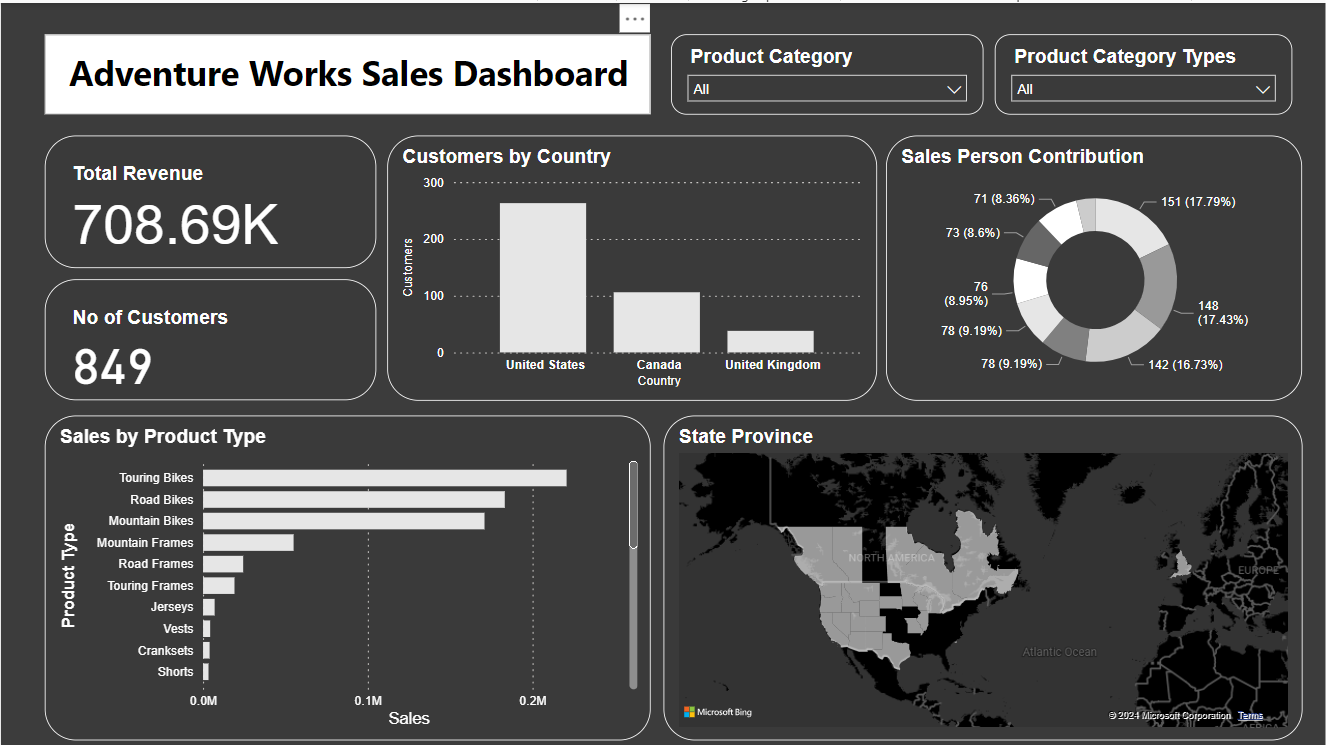

This screenshot's page, from the dashboard's own definition file:
{"tool":"powerbi","page":{"name":"Page 1","canvas":[1280,720],"ordinal":0},"visuals":[{"type":"cardVisual","fields":{"Data":["Sum(SalesOrderDetail.Line_Total)"]},"box":[42.2,127.9,319.7,127.9],"z":0},{"type":"slicer","fields":{"Values":["ProductCategory.Parent_Product_Category_ID"]},"box":[646.7,30.2,301.6,77.2],"z":1000},{"type":"cardVisual","fields":{"Data":["Count(Customer.Customer_ID)"]},"box":[42.2,266.6,319.7,117],"z":2000},{"type":"slicer","fields":{"Values":["ProductCategory.Name"]},"box":[959.1,30.2,287.1,77.2],"z":3000},{"type":"columnChart","fields":{"Y":["CountNonNull(Customer.Customer_ID)"],"Category":["address.Country_Region"]},"box":[372.8,127.9,472.9,255.8],"z":4000},{"type":"filledMap","fields":{"Category":["address.State_Province"]},"box":[639.4,398.1,616.5,313.7],"z":5000},{"type":"barChart","fields":{"Category":["ProductCategory.Name"],"Y":["Sum(SalesOrderDetail.Line_Total)"]},"box":[42.2,398.1,585.1,313.7],"z":6000},{"type":"donutChart","title":"Sales Person Contribution","fields":{"Category":["Customer.Sales_Person"],"Y":["CountNonNull(Customer.Customer_ID)"]},"box":[854.2,127.9,401.7,255.8],"z":7000},{"type":"textbox","title":"Adventure Works Sales Dashboard","box":[42.2,30.2,585.1,77.2],"z":8000}]}

Visuals, with their boxes in screenshot pixels (x1, y1, x2, y2), scaled from the page's 1280x720 canvas onto the 1326x745 screenshot:
cardVisual - Sum(SalesOrderDetail.Line_Total): <bbox>44, 132, 375, 265</bbox>
slicer - ProductCategory.Parent_Product_Category_ID: <bbox>670, 31, 982, 111</bbox>
cardVisual - Count(Customer.Customer_ID): <bbox>44, 276, 375, 397</bbox>
slicer - ProductCategory.Name: <bbox>994, 31, 1291, 111</bbox>
columnChart - CountNonNull(Customer.Customer_ID) x address.Country_Region: <bbox>386, 132, 876, 397</bbox>
filledMap - address.State_Province: <bbox>662, 412, 1301, 737</bbox>
barChart - ProductCategory.Name x Sum(SalesOrderDetail.Line_Total): <bbox>44, 412, 650, 737</bbox>
"Sales Person Contribution" donutChart: <bbox>885, 132, 1301, 397</bbox>
"Adventure Works Sales Dashboard" textbox: <bbox>44, 31, 650, 111</bbox>
